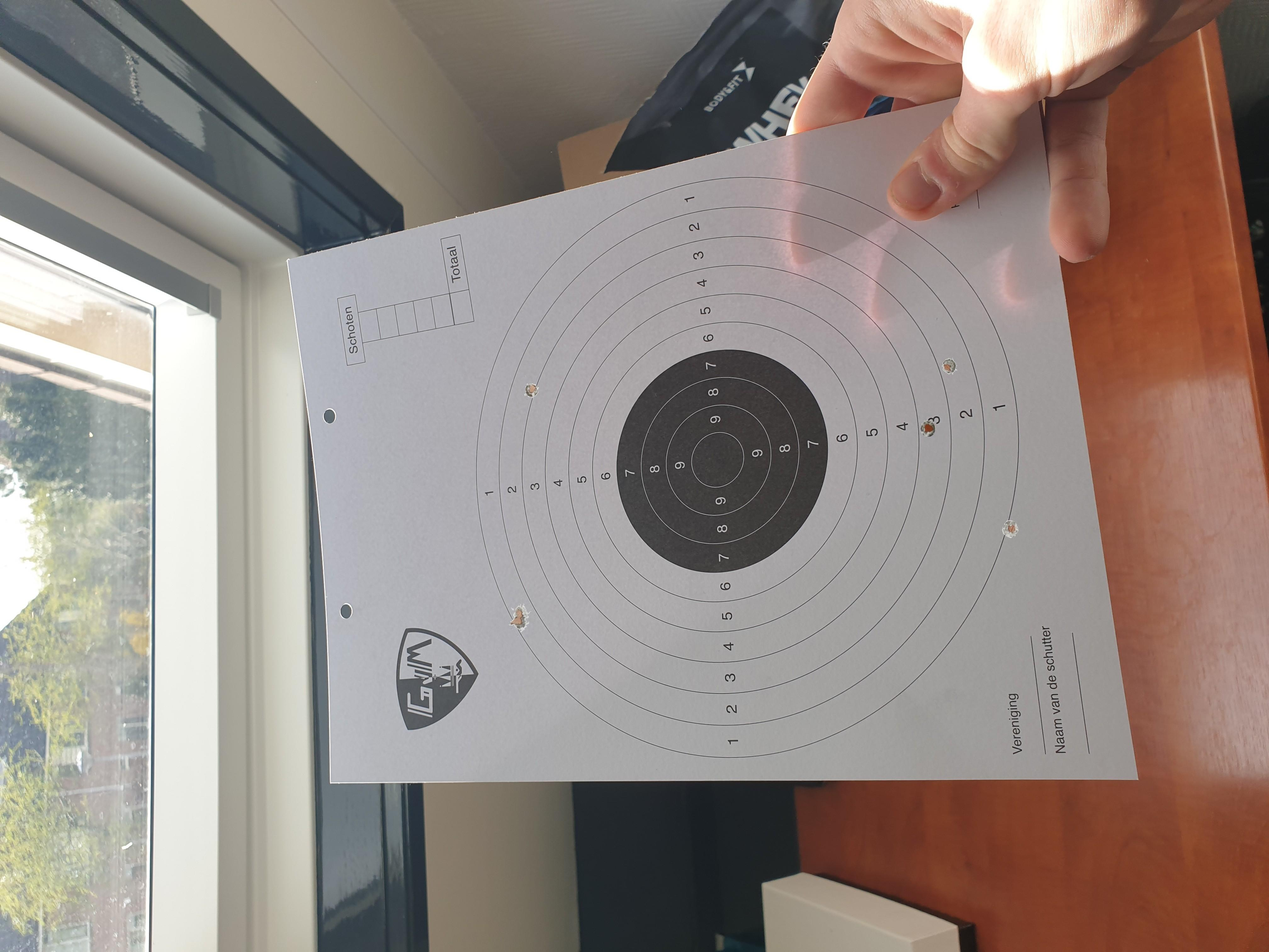hole: (1001, 520, 1019, 539), (941, 357, 958, 375), (511, 604, 531, 618), (509, 618, 530, 631), (920, 420, 936, 437), (524, 383, 539, 398)
